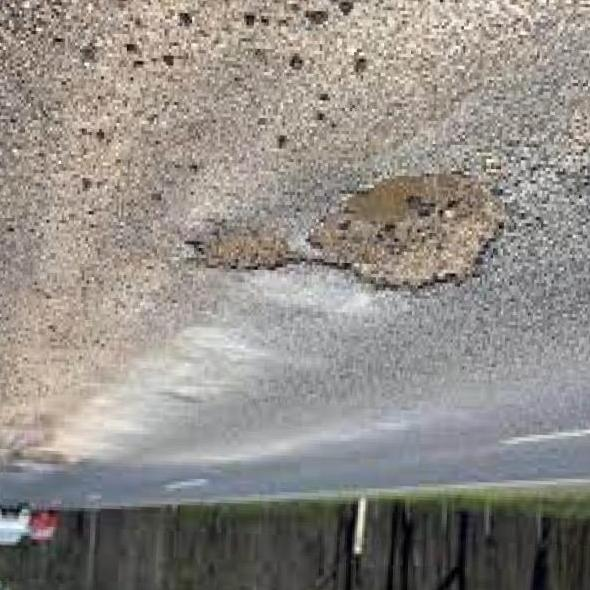pothole: (164, 158, 527, 322)
